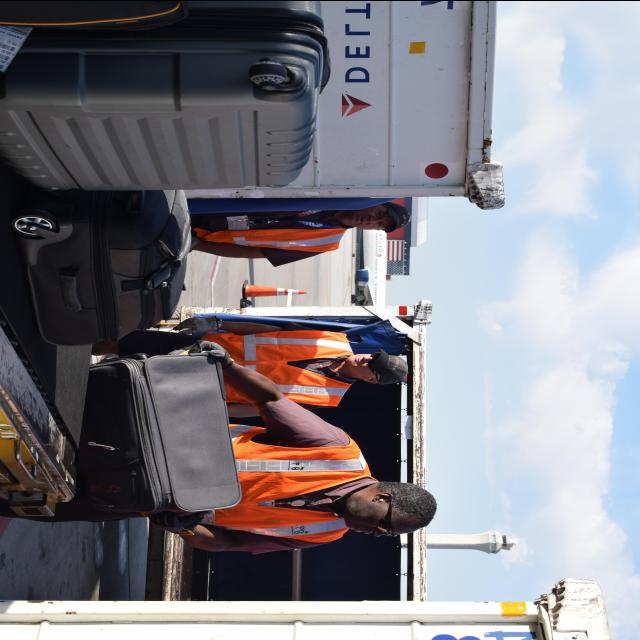jacket: (204, 422, 380, 552), (195, 326, 356, 408)
